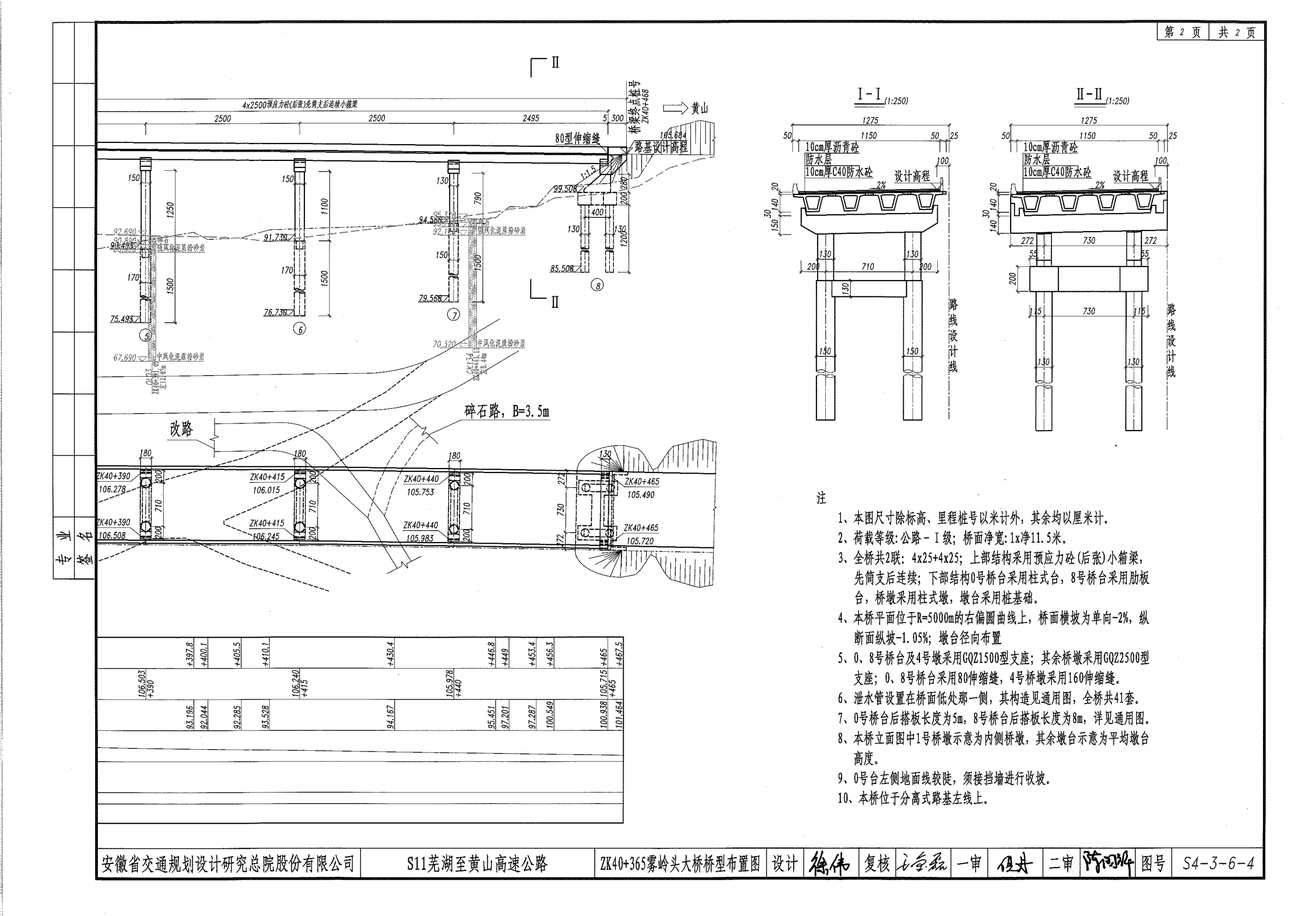A: (72, 51, 743, 359)
